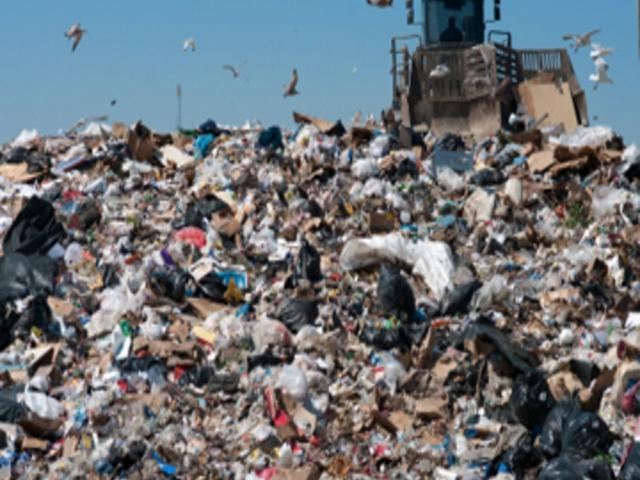garbage: (20, 162, 627, 463)
